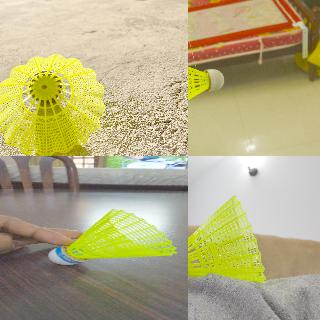shuttlecock: (0, 54, 104, 155), (188, 195, 266, 283), (50, 210, 176, 264), (188, 56, 224, 115)
